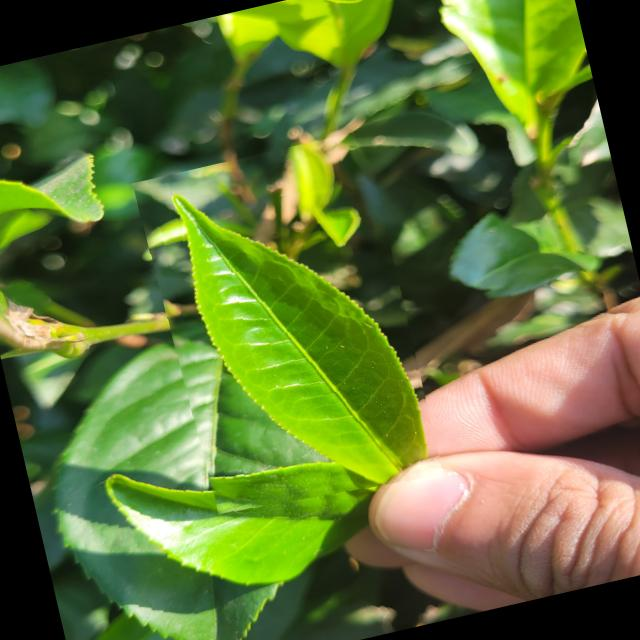Catagory A(1-2 days): (131, 130, 443, 528)
